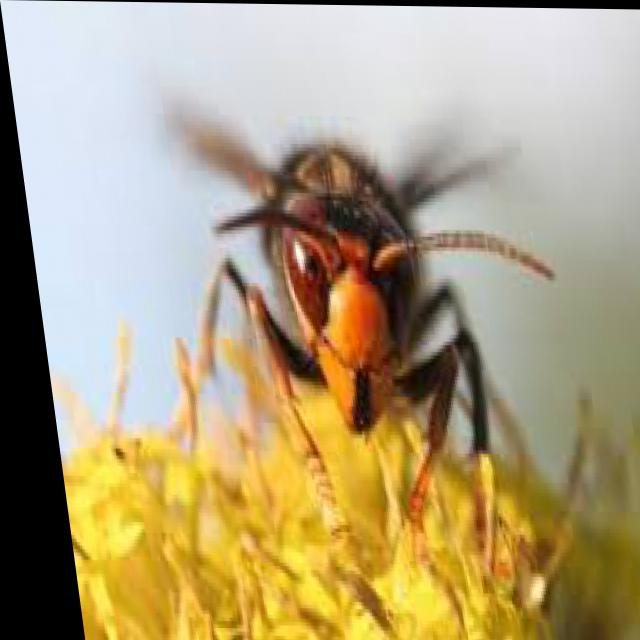Vespa Orientalis: (88, 45, 617, 616)
